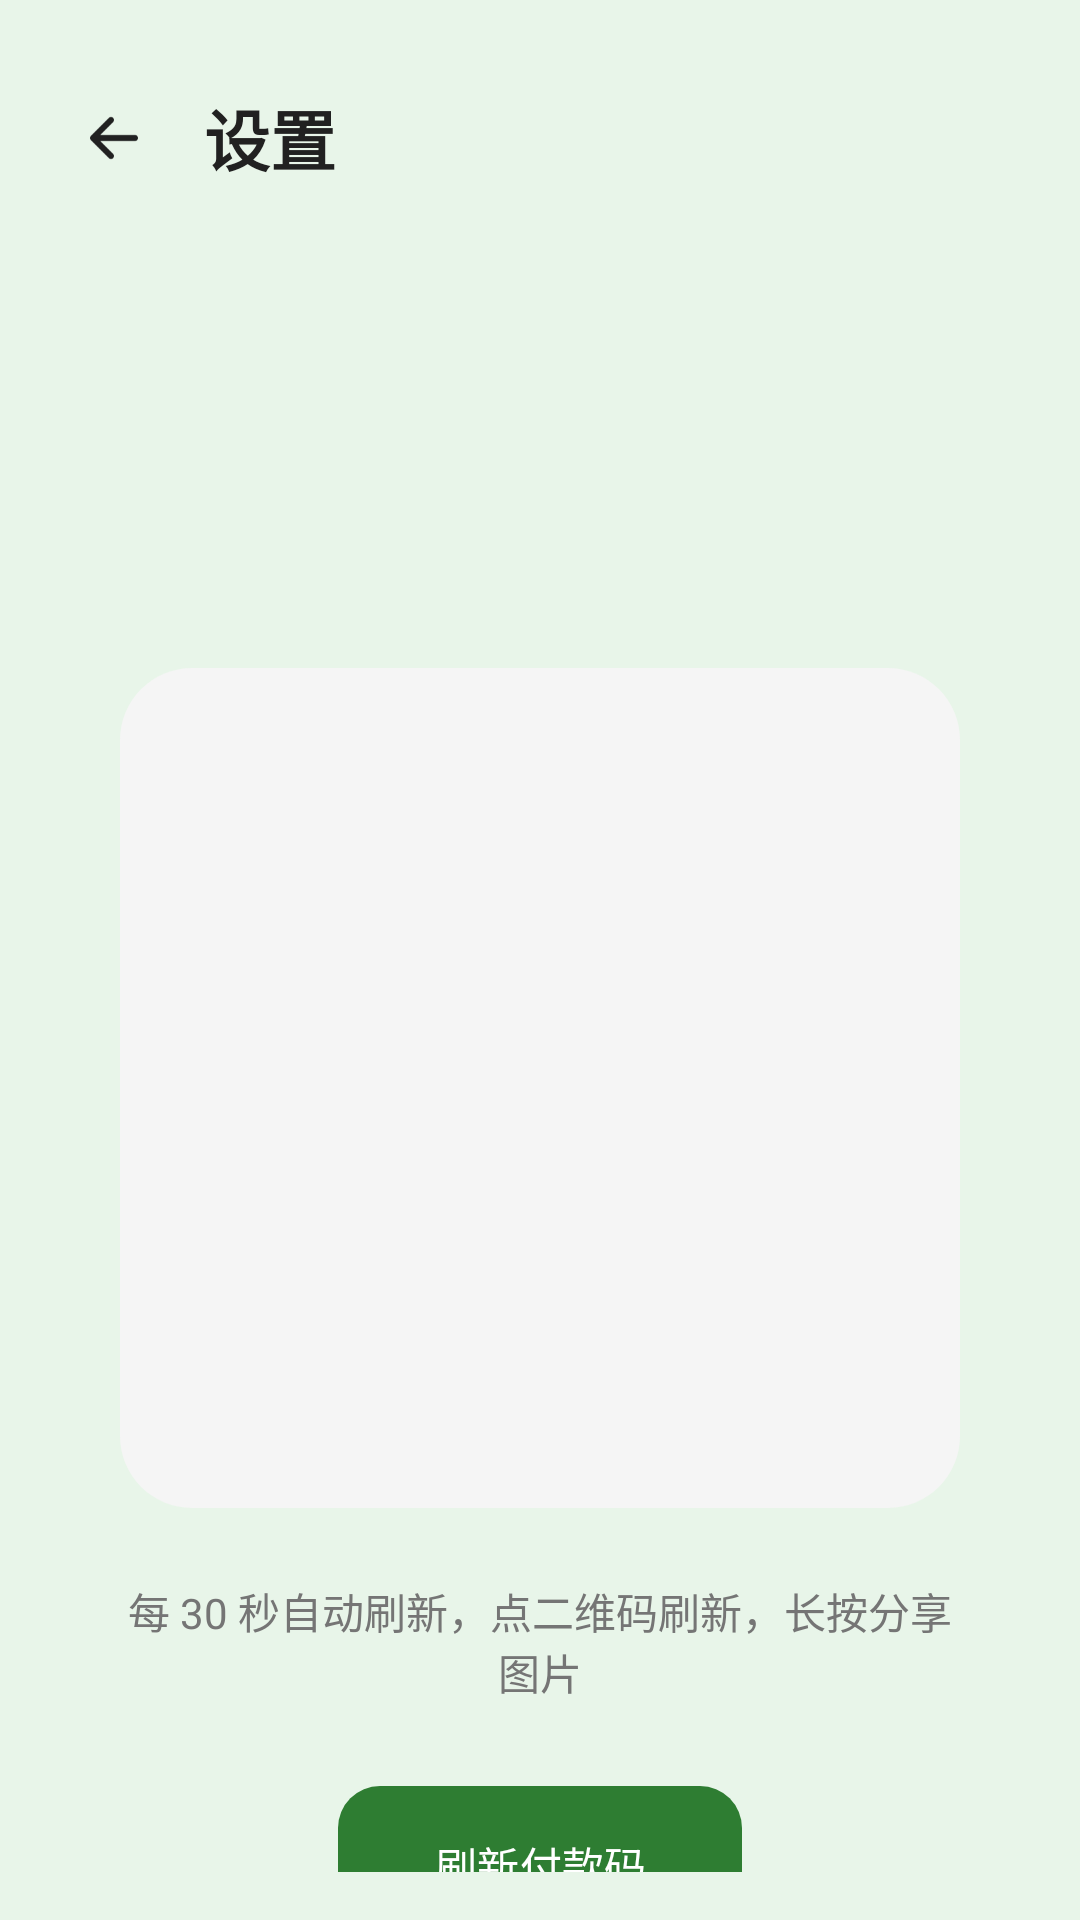

Screen size 1080×1920. Icon name, then its box in pixels as bbox(x1, y1, x2, y2):
返回主页: bbox(90, 117, 138, 159)
